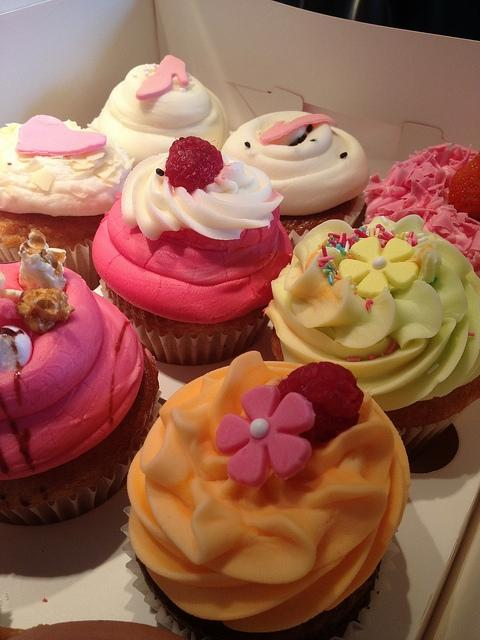raspberry: (277, 362, 364, 448), (164, 135, 224, 194)
